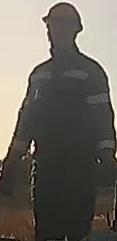gloves: (0, 137, 24, 196), (96, 142, 117, 194)
helmet: (42, 2, 84, 36)
vest: (29, 54, 107, 174)
